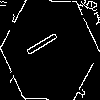I: (25, 25, 66, 58)
